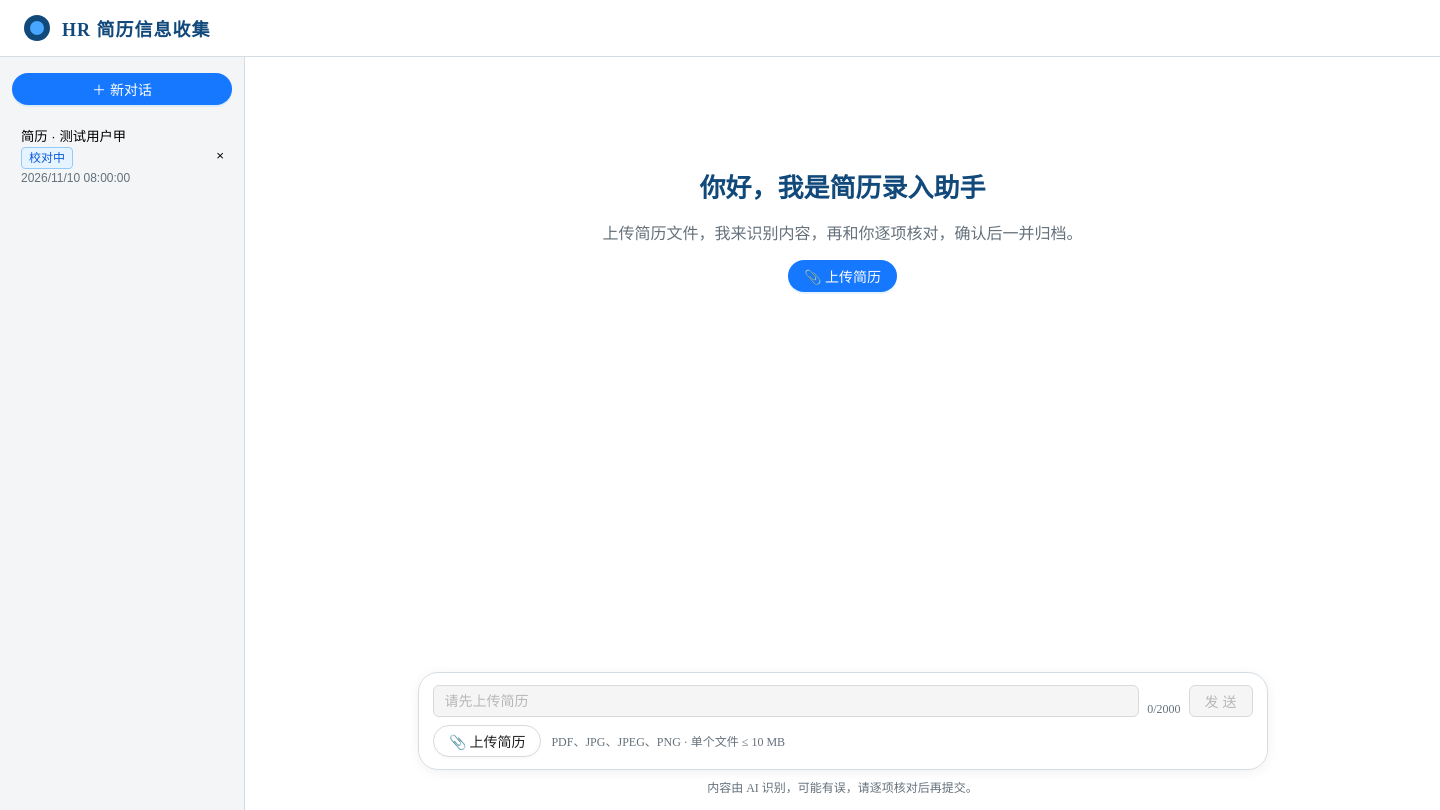
Test: F-03: "已保存" only after a confirmed save (HIGH_RISK, deterministic) › already_saved=true answered with HTTP 201 shows "该简历已保存过", never "已保存" or "已更新"
Click the button "简历 · 测试用户甲 校对中 2026/11/10 08:00:00" at (108, 156), box x1=12 y1=117 x2=204 y2=194
(page scrolled)
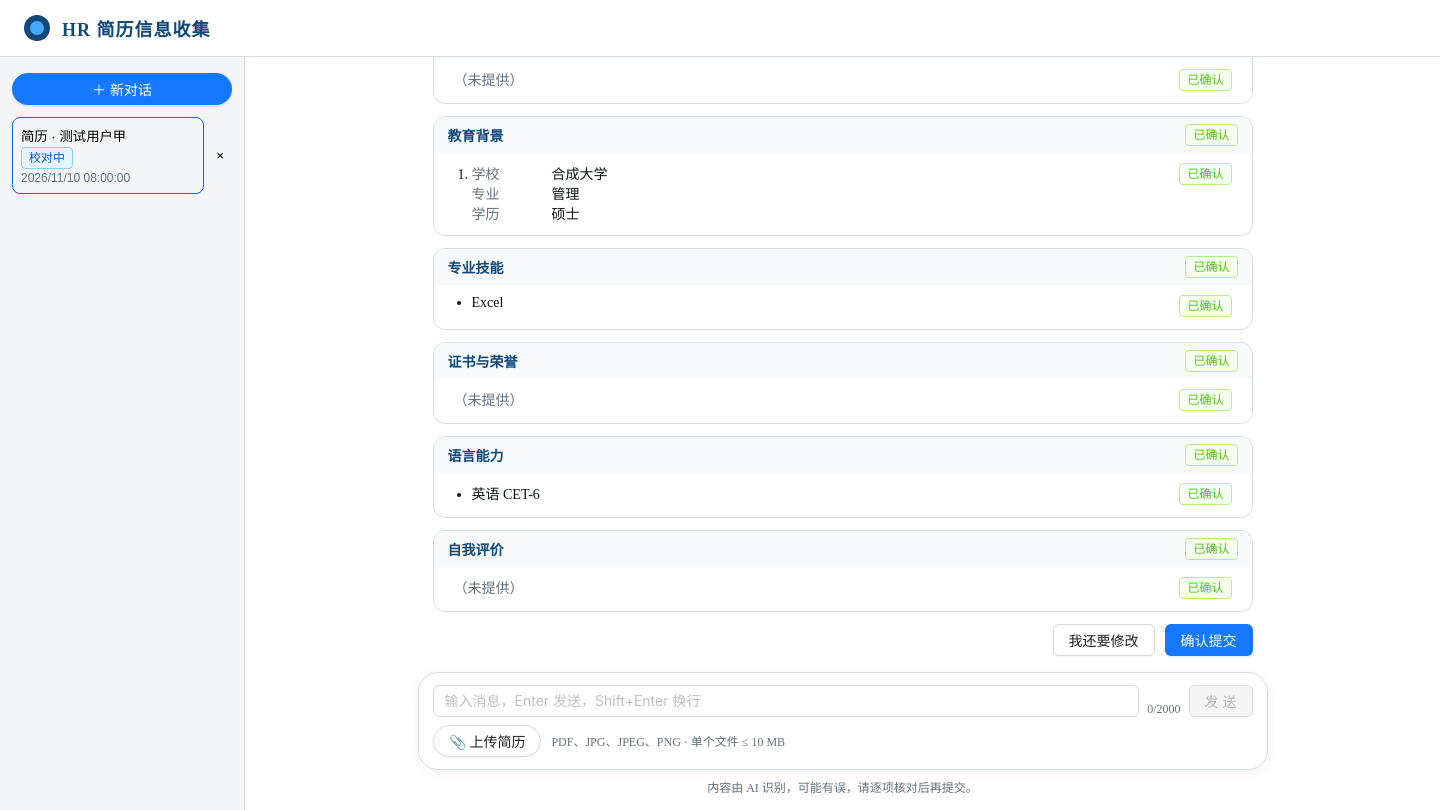
Click the button "确认提交" at (1208, 640), box x1=1164 y1=624 x2=1252 y2=656
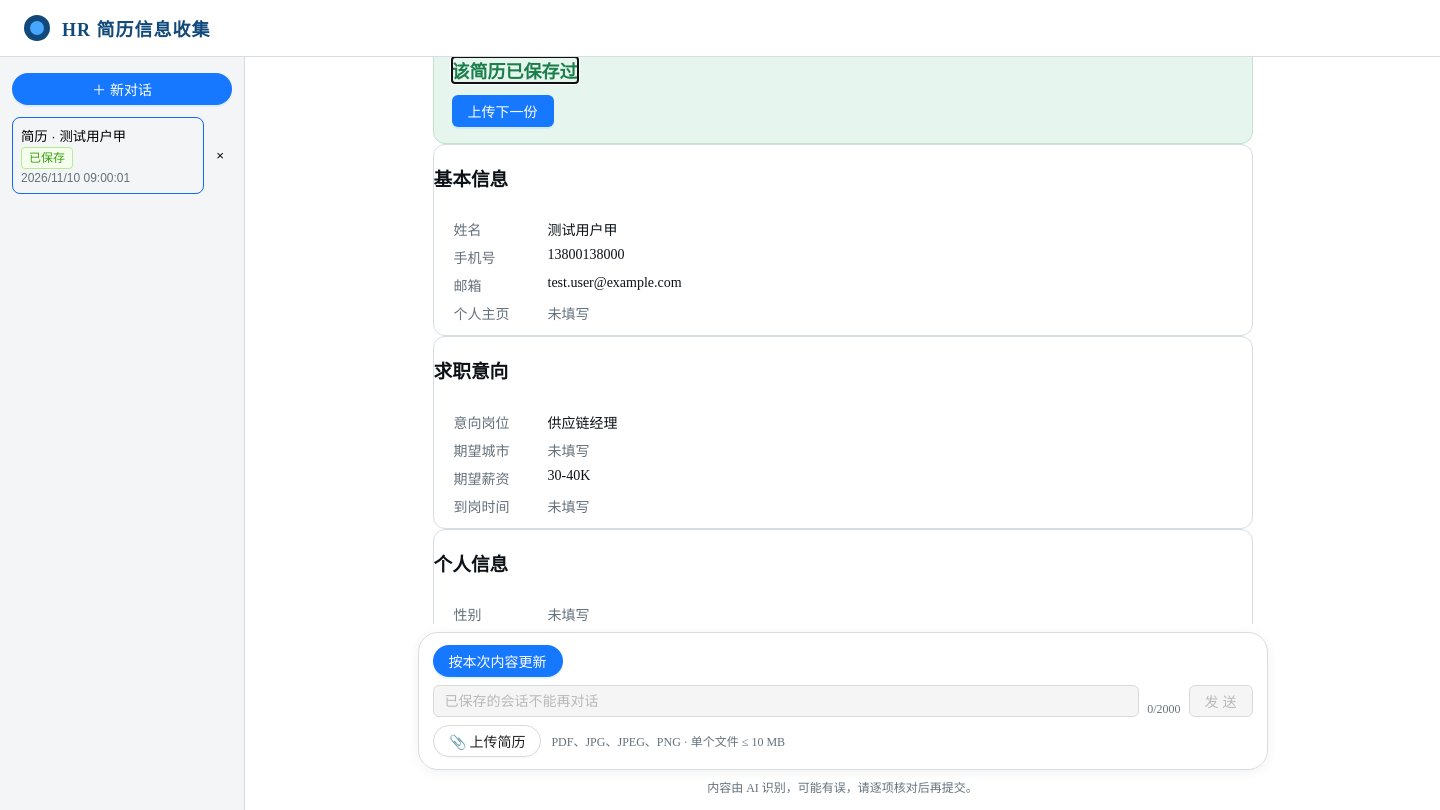
expect the text "该简历已保存过" is shown: met, box x1=452 y1=57 x2=578 y2=83
